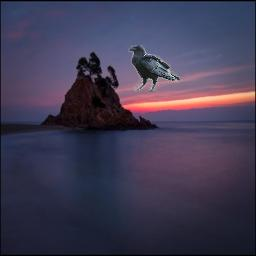Crow: (128, 45, 180, 92)
